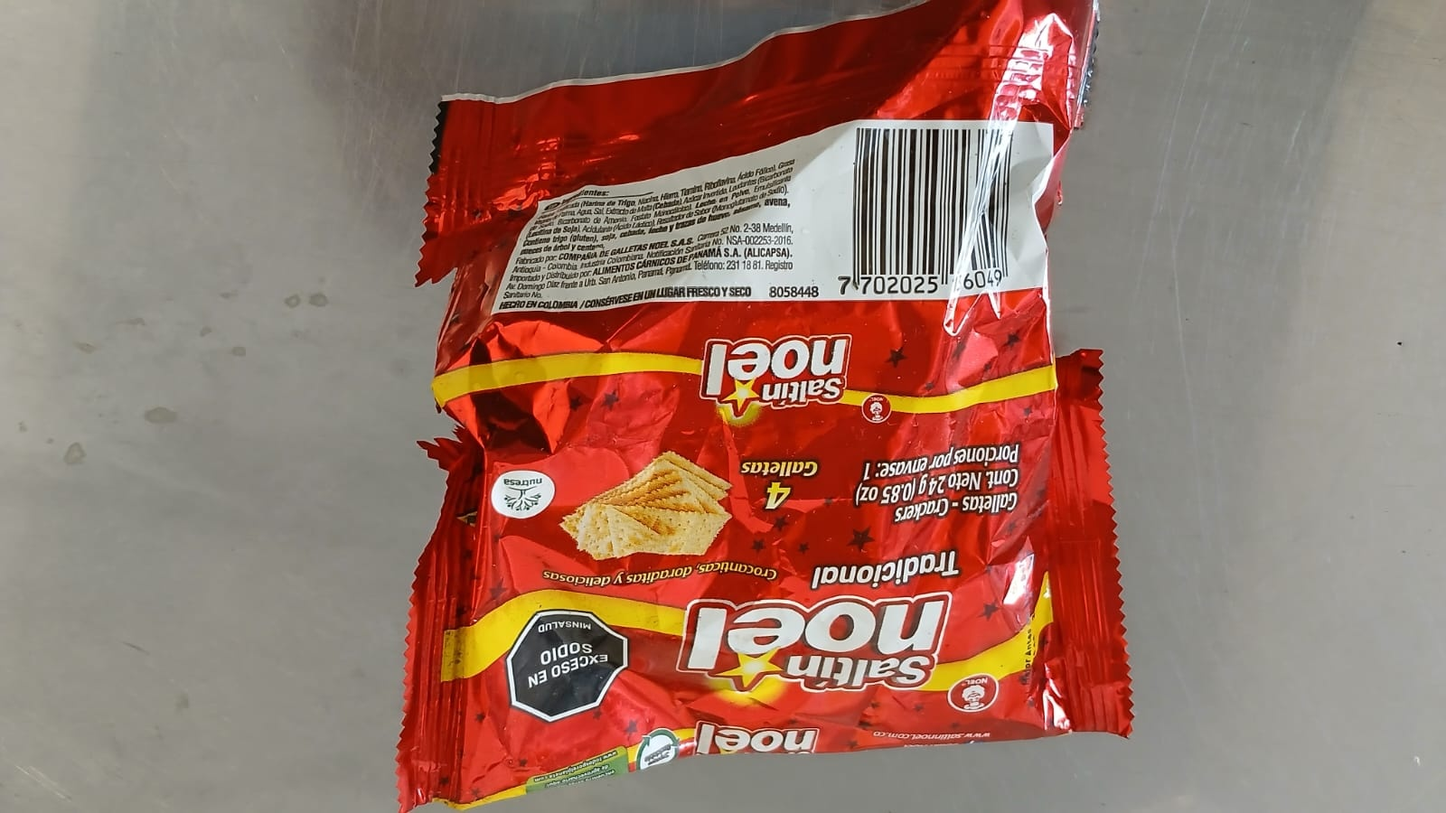Ordinario: (394, 0, 1133, 813)
